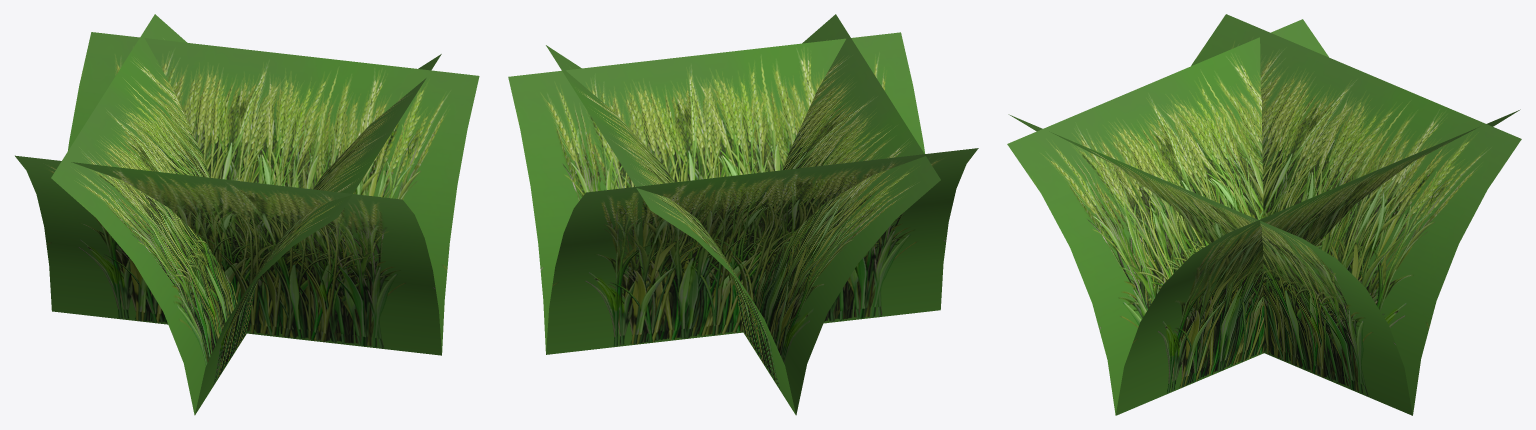
The model's file is sb_obj_nature008_Wheat01.fbx.
3 renders of one model, left to right at view 1: azimuth 30°, elevation 25°; view 2: azimuth 150°, elevation 25°; view 3: azimuth 270°, elevation 25°, orthographic. The views are drawn at different scales.
Parts seen in each view (by area): view 1: sb_obj_nature008_Wheat01; view 2: sb_obj_nature008_Wheat01; view 3: sb_obj_nature008_Wheat01.
Boxes of the visible parts, x1,y1,x2,y2 form: sb_obj_nature008_Wheat01: (15, 14, 479, 415); sb_obj_nature008_Wheat01: (508, 14, 978, 415); sb_obj_nature008_Wheat01: (1007, 14, 1521, 415).
Bounding box in the file's own units: 2.46 × 1.21 × 2.46.
1 material, 1 textured.
